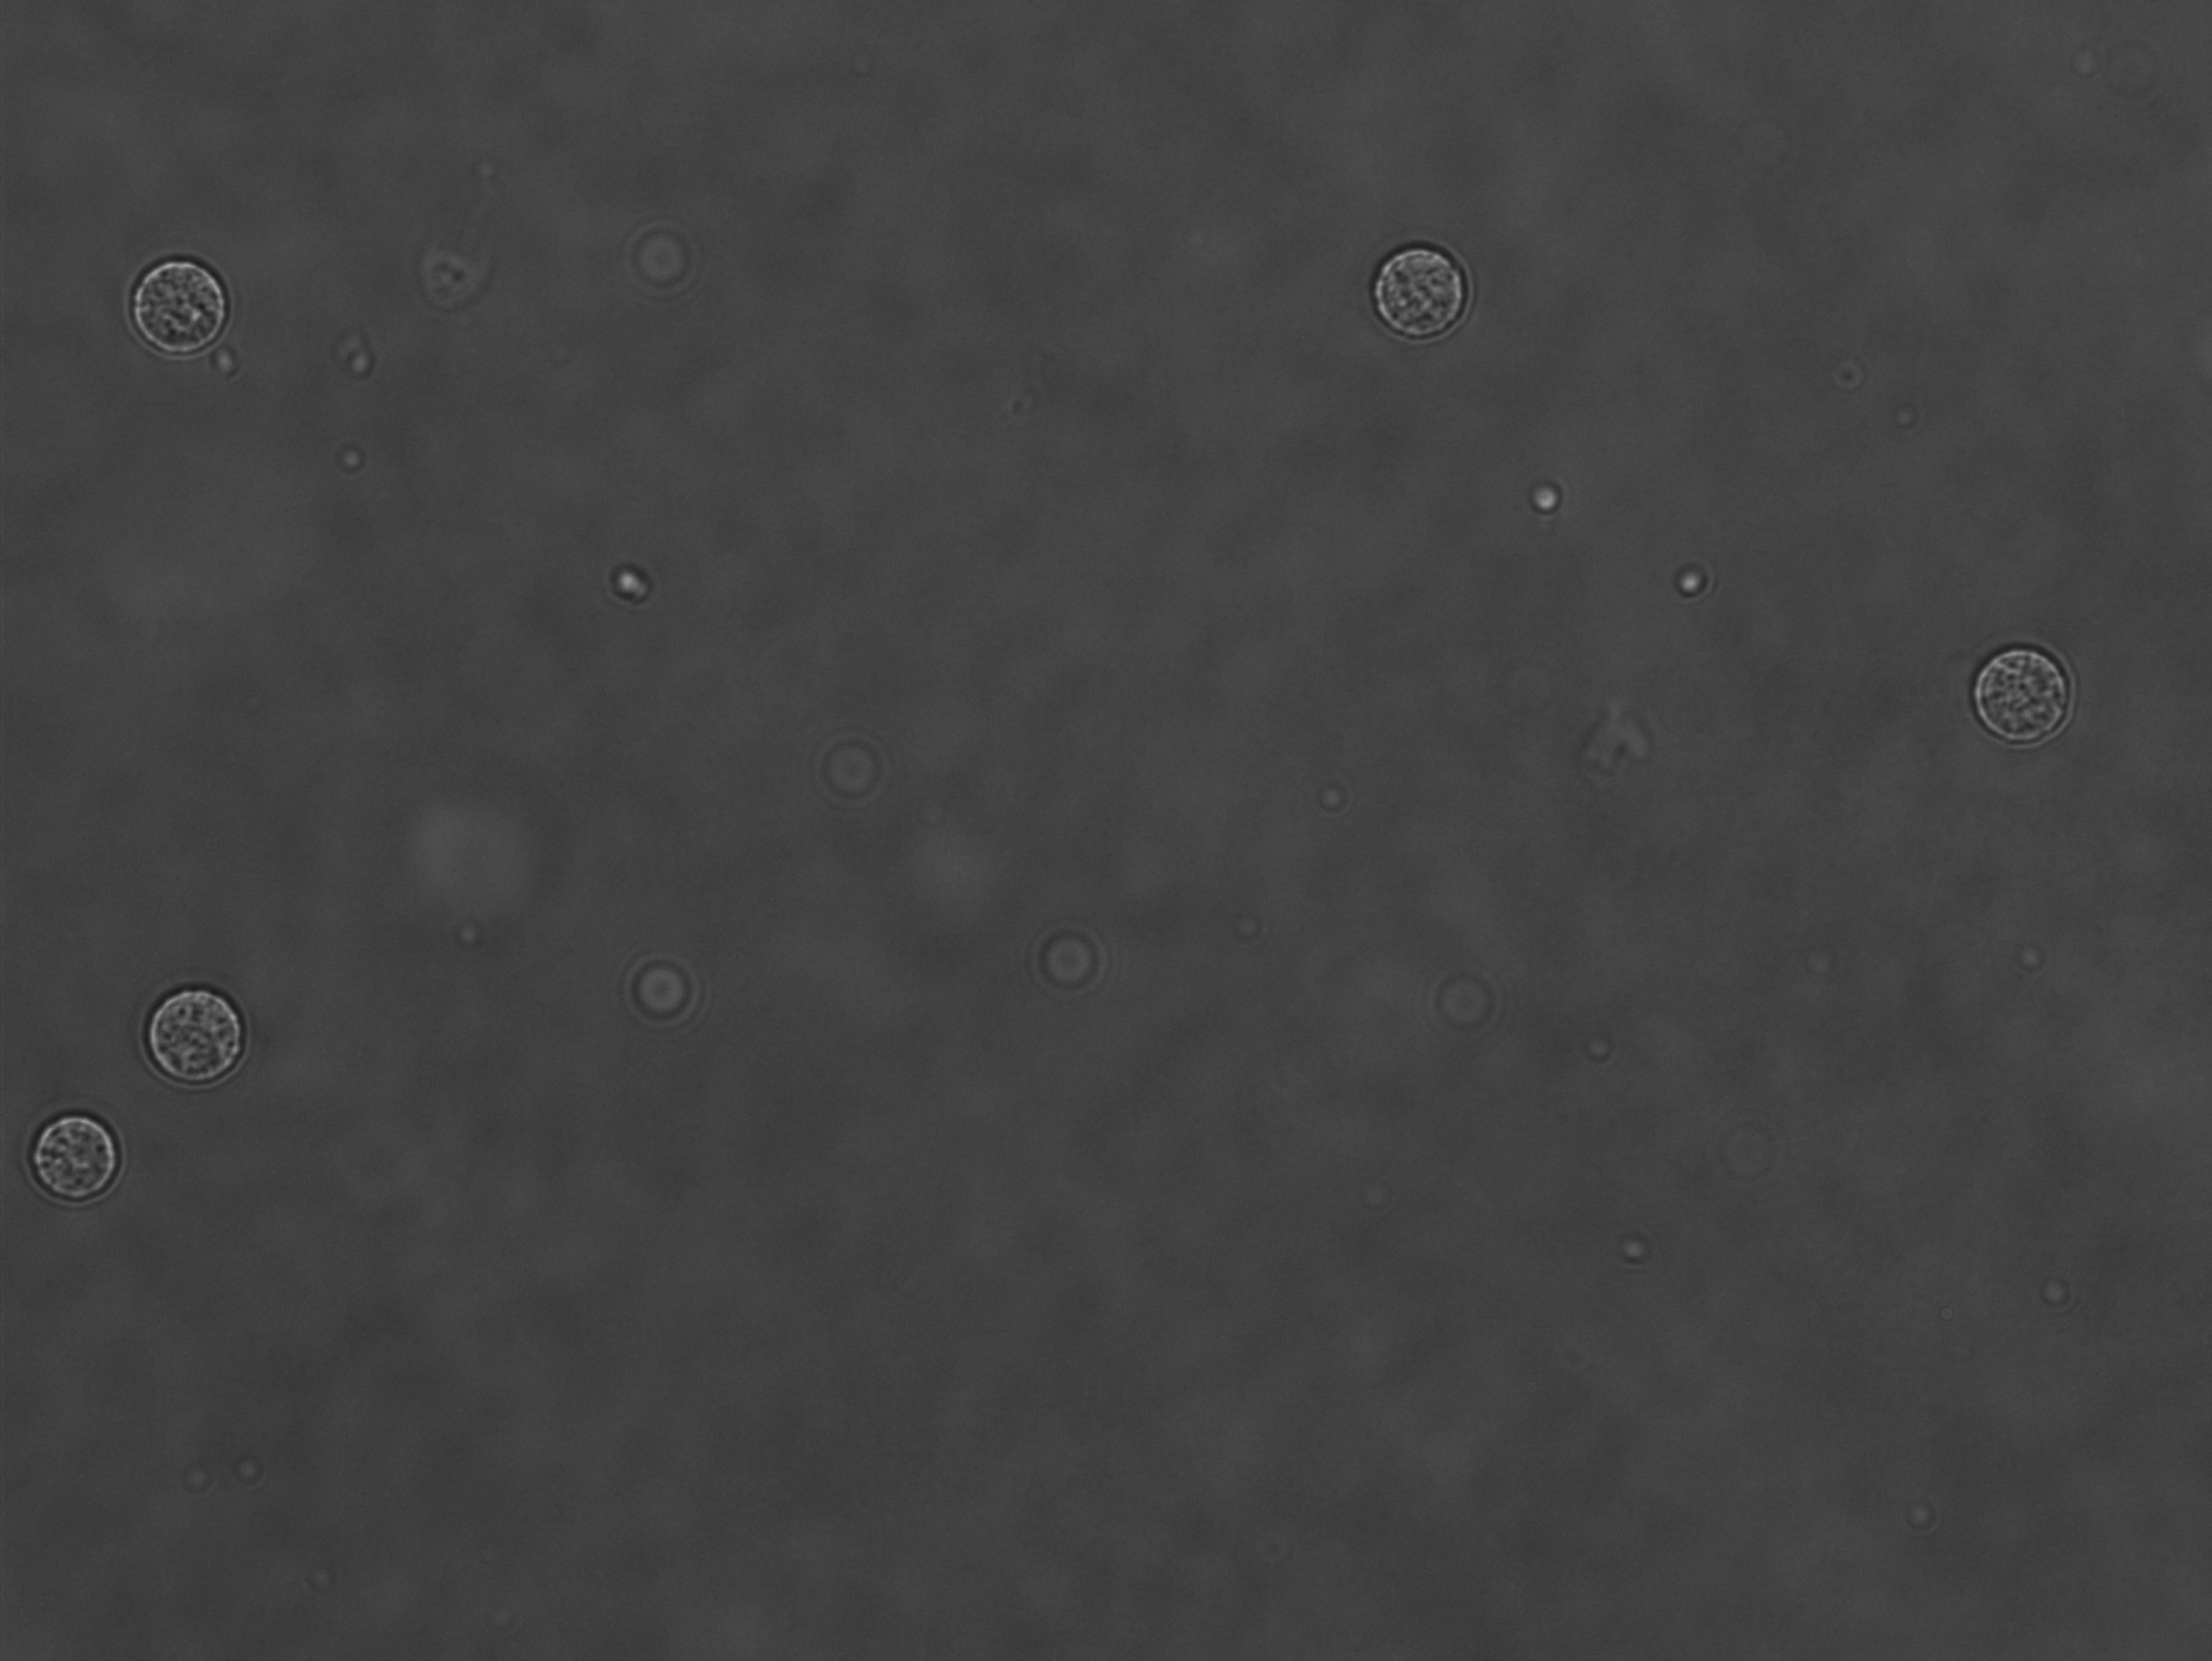depth:0: (1931, 640, 2123, 780), (110, 243, 286, 387), (1328, 213, 1495, 361), (2, 1071, 159, 1225), (127, 970, 272, 1113), (201, 956, 206, 974)
